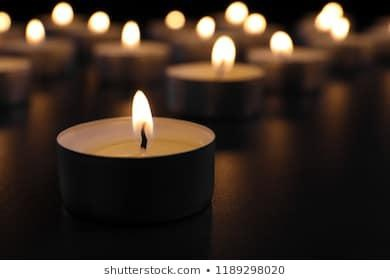fire: (128, 87, 155, 145), (314, 0, 350, 40), (210, 34, 236, 71)
